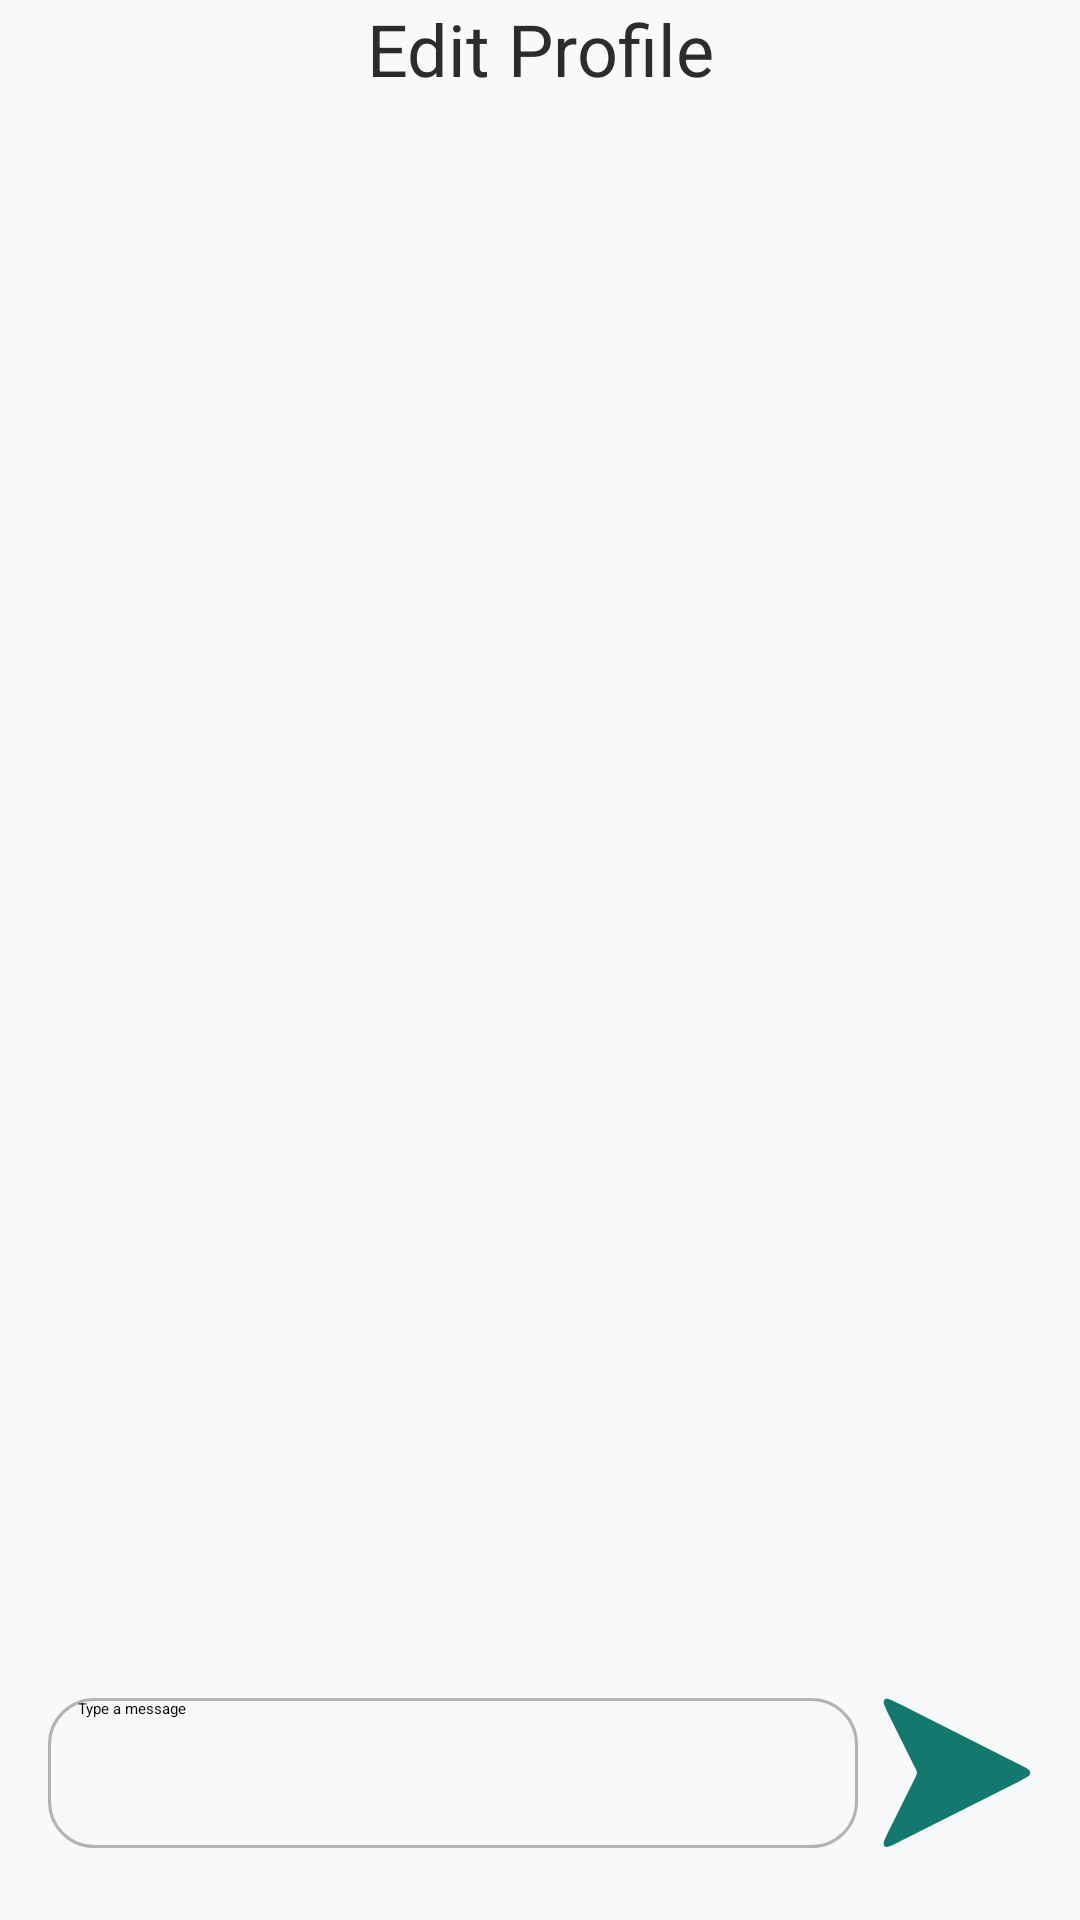

Locate icon controls on the screen. Image size 1080×1920, boxes as box(x1, y1, x2, y2).
send: box(883, 1698, 1031, 1847)
